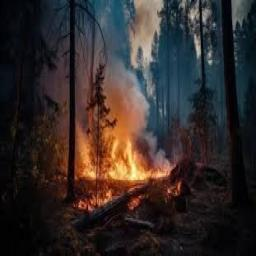Low smoke: (9, 0, 190, 164)
Small fire: (61, 132, 177, 195)
